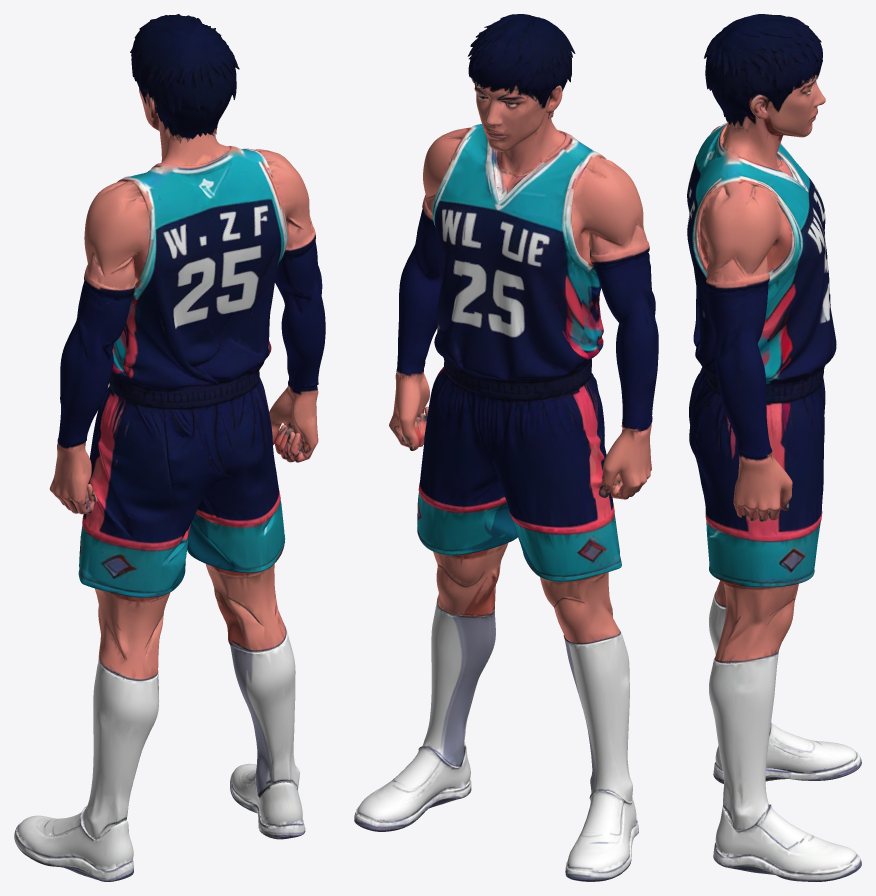
The model's file is model-lite.glb.
The picture shows the model from 3 angles, left to right: view 1: azimuth 30°, elevation 25°; view 2: azimuth 150°, elevation 25°; view 3: azimuth 270°, elevation 25°; orthographic projection. The views are drawn at different scales.
Visible parts, largest first — view 1: node_0; view 2: node_0; view 3: node_0.
Part boxes in pixels (x1,y1,x2,y2): node_0: [14, 14, 325, 881]; node_0: [354, 14, 658, 881]; node_0: [687, 14, 861, 881].
Bounding box in the file's own units: 0.3821 × 1.14 × 0.2249.
Materials: 1 (1 with a texture image).
